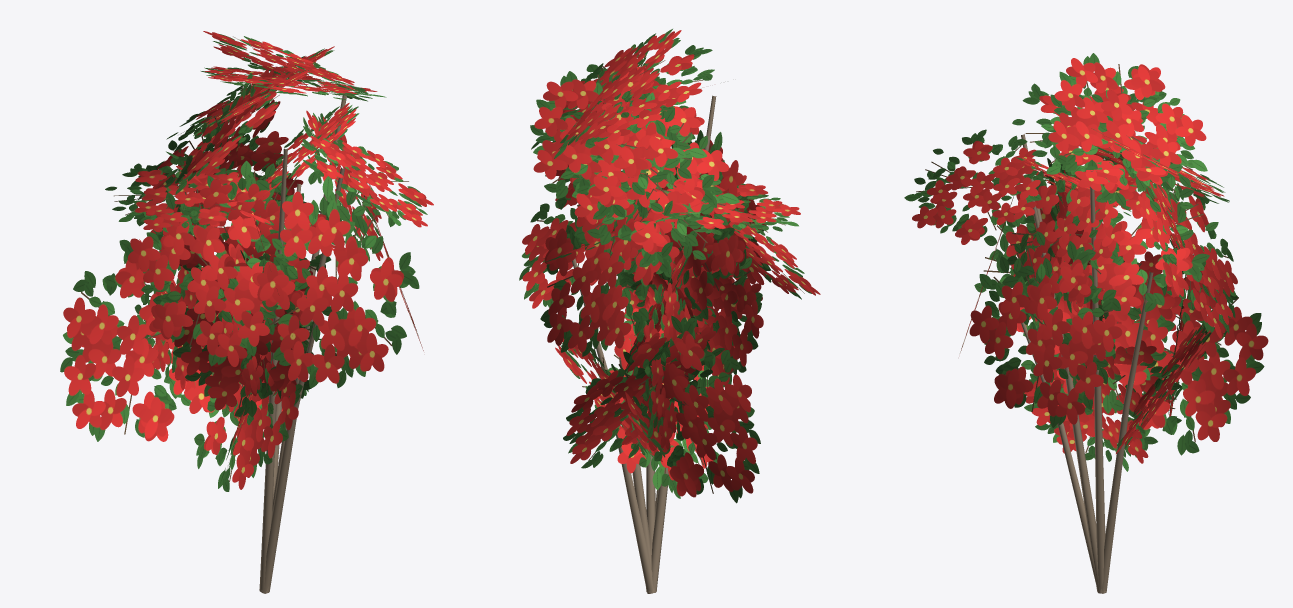
Rendered from hibiscus-rosa-sinensis.glb.
3 views of the same model, side by side, from view 1: azimuth 30°, elevation 25°; view 2: azimuth 150°, elevation 25°; view 3: azimuth 270°, elevation 25° (orthographic). The views are drawn at different scales.
Visible parts, largest first — view 1: folhas, galhos; view 2: folhas, galhos; view 3: folhas, galhos.
Part boxes in pixels (x1=…): folhas: x1=60, y1=31, x2=433, y2=491; galhos: x1=259, y1=89, x2=347, y2=593; folhas: x1=519, y1=29, x2=820, y2=503; galhos: x1=572, y1=95, x2=716, y2=593; folhas: x1=904, y1=53, x2=1268, y2=471; galhos: x1=1021, y1=134, x2=1153, y2=593.
Bounding box in the file's own units: 1.82 × 3 × 2.
Materials: 2 (1 with a texture image).
